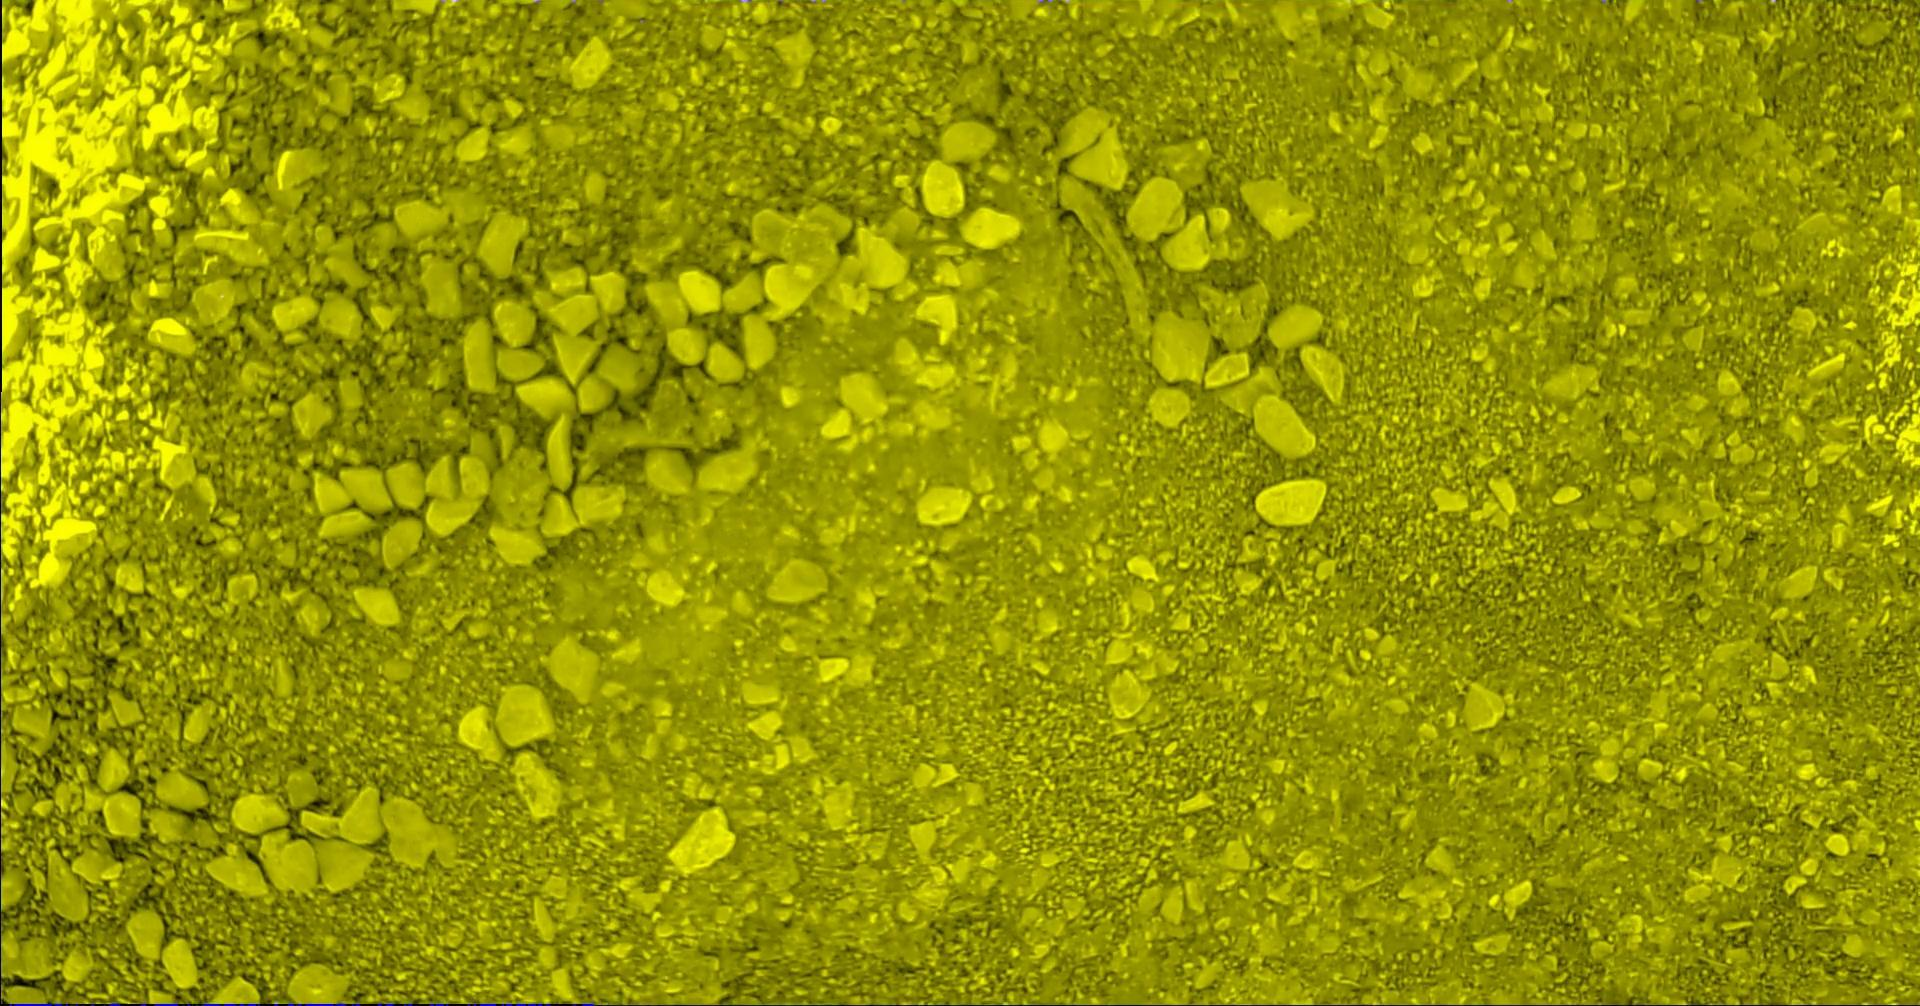ant: (466, 1002, 550, 1005), (286, 1002, 361, 1005), (8, 1002, 69, 1005), (202, 1002, 260, 1005)
